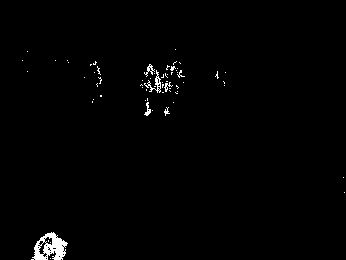person: (164, 62, 184, 116), (141, 63, 159, 116)
